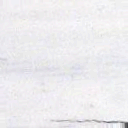crackTip: (48, 114, 128, 127)
